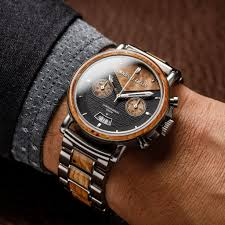clock: (72, 52, 169, 144)
